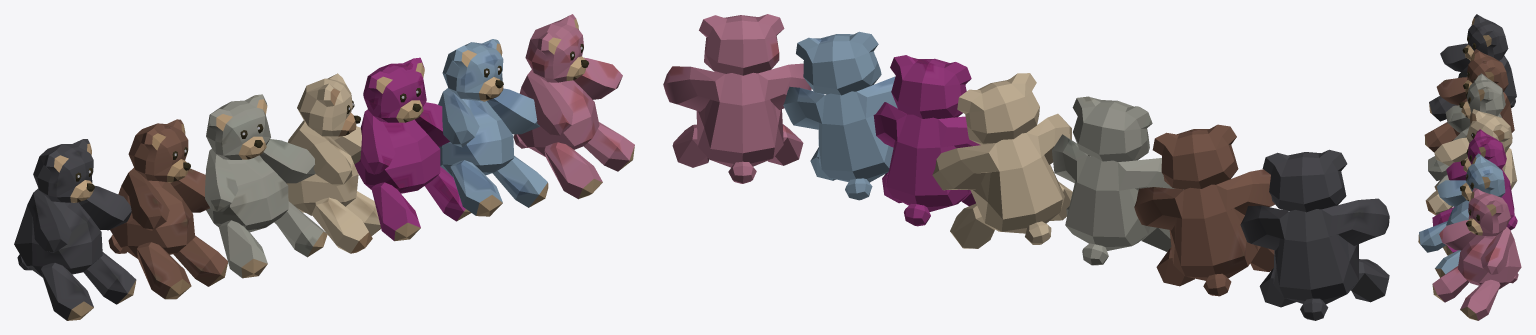
File: SM_Prop_Plushies_Pined_01.glb
3 views of the same model, side by side, from view 1: azimuth 30°, elevation 25°; view 2: azimuth 150°, elevation 25°; view 3: azimuth 270°, elevation 25° (orthographic). The views are drawn at different scales.
Visible parts, largest first — view 1: SM_Prop_Plushies_Pined_01; view 2: SM_Prop_Plushies_Pined_01; view 3: SM_Prop_Plushies_Pined_01.
Boxes of the visible parts, <box> form: SM_Prop_Plushies_Pined_01: <box>14,14,634,320</box>; SM_Prop_Plushies_Pined_01: <box>663,14,1389,320</box>; SM_Prop_Plushies_Pined_01: <box>1418,14,1521,320</box>.
Bounding box in the file's own units: 388 × 101 × 79.96.
Materials: 1 (1 with a texture image).
